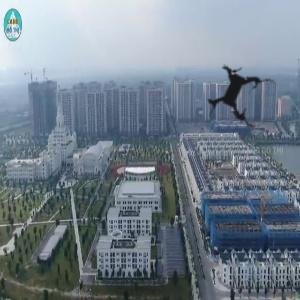drone: (179, 34, 300, 155)
